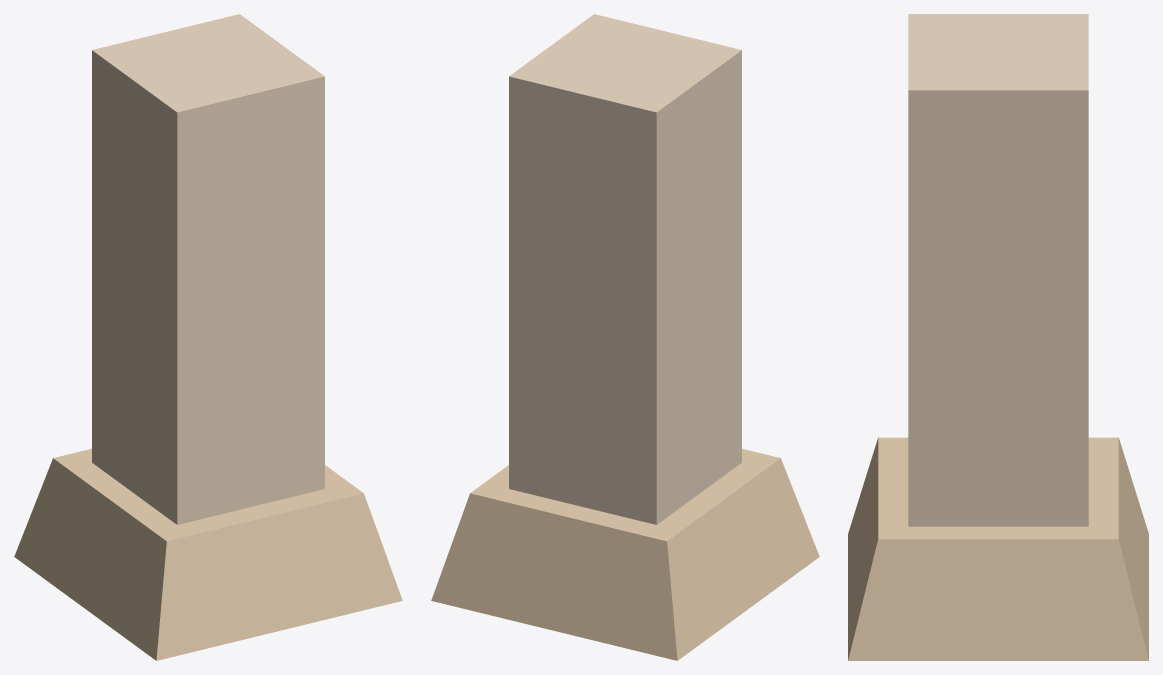
File: Pillar_Wall_Base.glb
The picture shows the model from 3 angles, left to right: view 1: azimuth 30°, elevation 25°; view 2: azimuth 150°, elevation 25°; view 3: azimuth 270°, elevation 25°; orthographic projection. The views are drawn at different scales.
Parts seen in each view (by area): view 1: Pillar_Wall_Base; view 2: Pillar_Wall_Base; view 3: Pillar_Wall_Base.
Boxes of the visible parts, x1=… form: Pillar_Wall_Base: x1=14, y1=14, x2=402, y2=660; Pillar_Wall_Base: x1=431, y1=14, x2=819, y2=660; Pillar_Wall_Base: x1=848, y1=14, x2=1148, y2=660.
Bounding box in the file's own units: 0.5 × 1 × 0.5.
